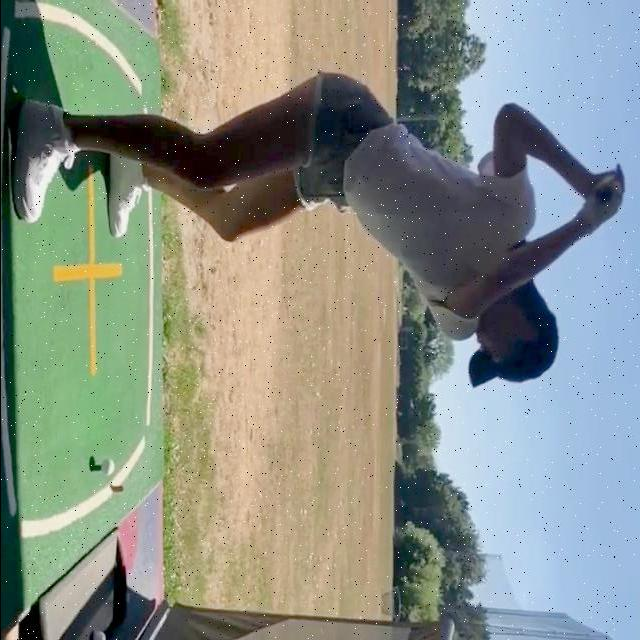golf ball: (101, 459, 113, 476), (92, 631, 104, 640)
golf club-handle: (597, 183, 613, 204)
